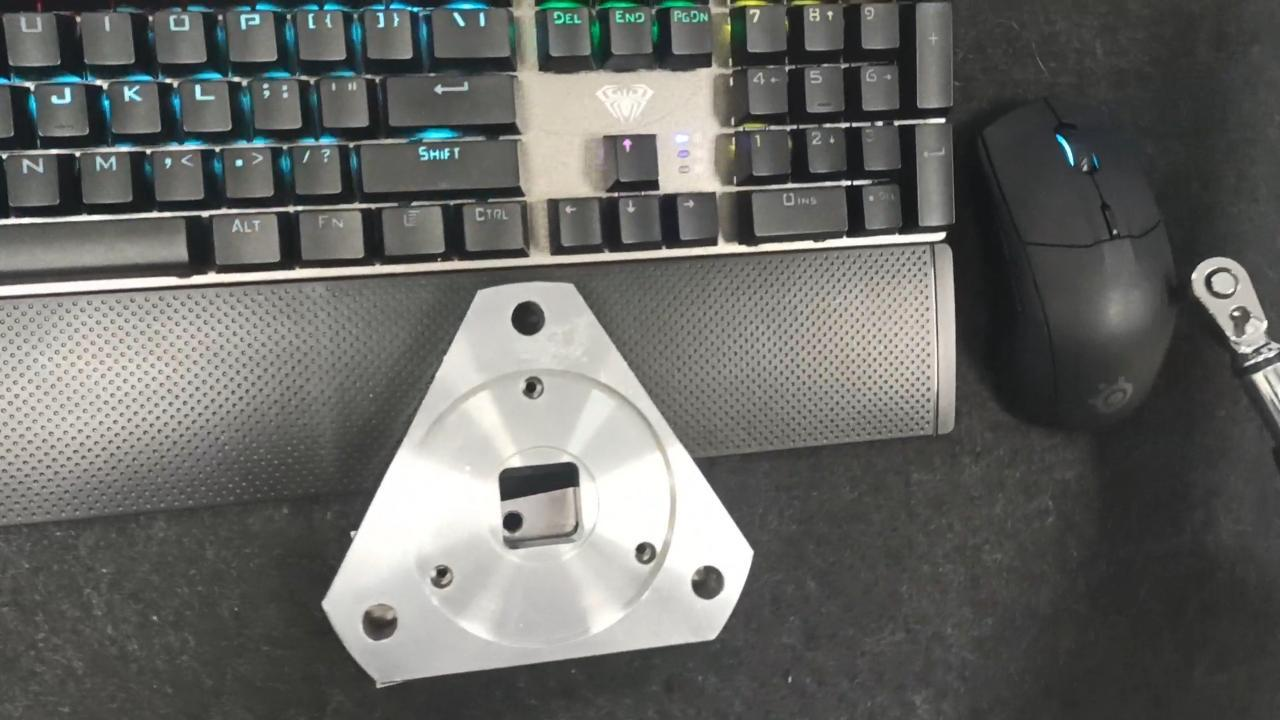Tool: (1188, 248, 1280, 360)
